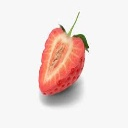strawberry: (34, 19, 89, 99)
